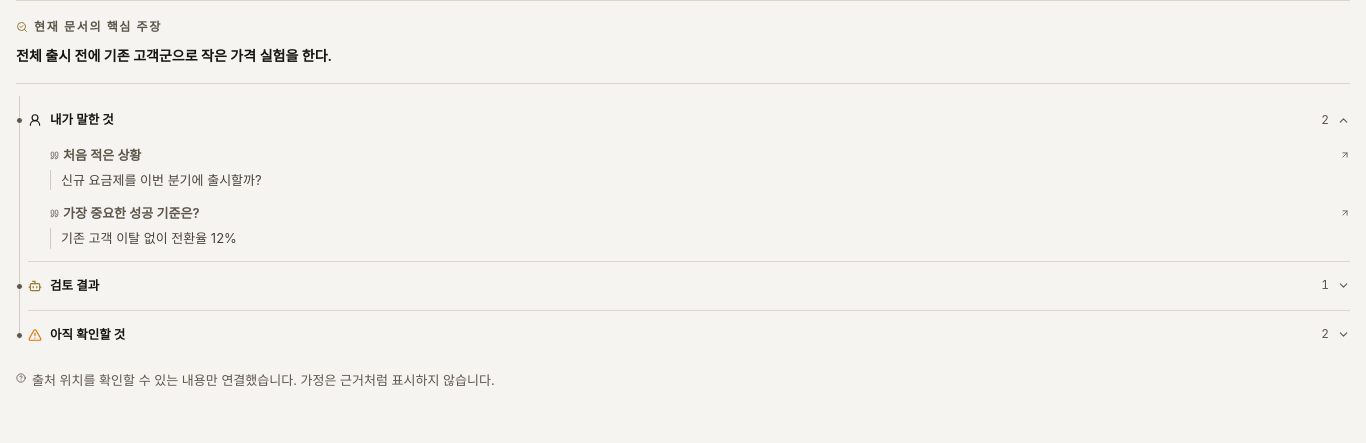
DecisionEvidenceMap › traces the current claim to user input, team analysis, and open checks
This screenshot has width=1366, height=443.
Click the button "검토 결과 1" at (75, 285), box [28,262,1350,310]
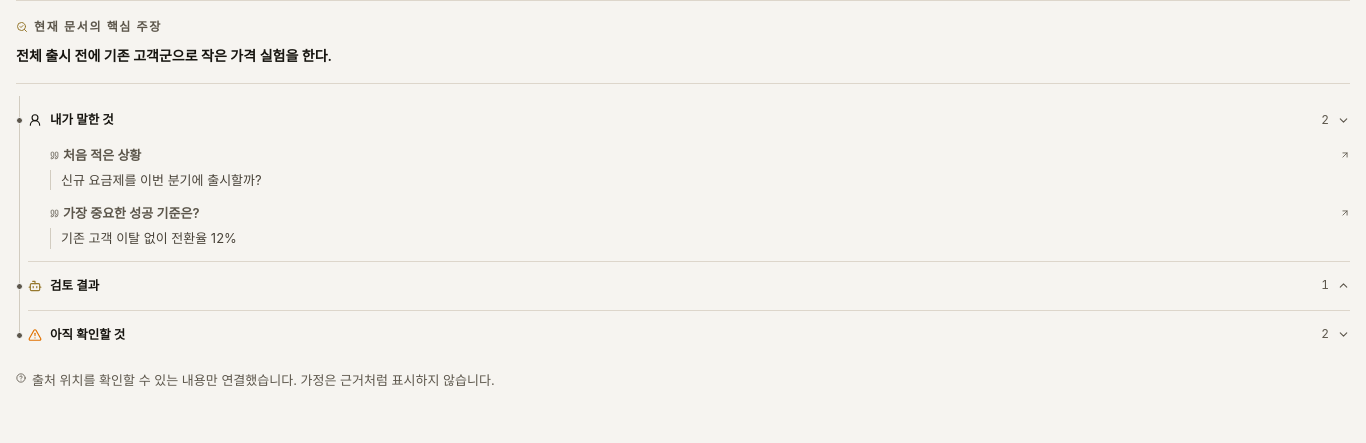
Click the button "아직 확인할 것 2" at (88, 334), box [28,310,1350,358]
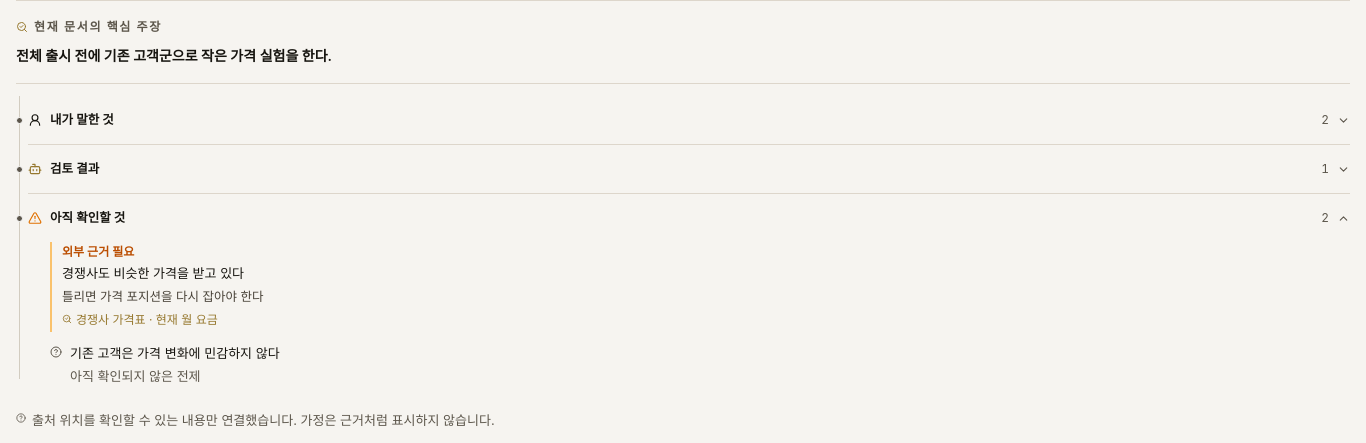
Now the text "경쟁사도 비슷한 가격을 받고 있다" is shown, box [62,266,244,282]
Now the text "경쟁사 가격표 · 현재 월 요금" is shown, box [62,312,218,329]
Now the text "아직 확인되지 않은 전제" is shown, box [70,368,201,384]
